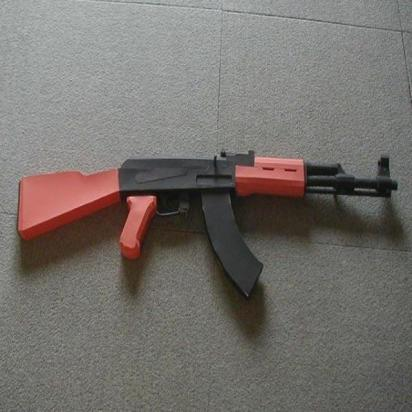Gun: (9, 136, 404, 310)
